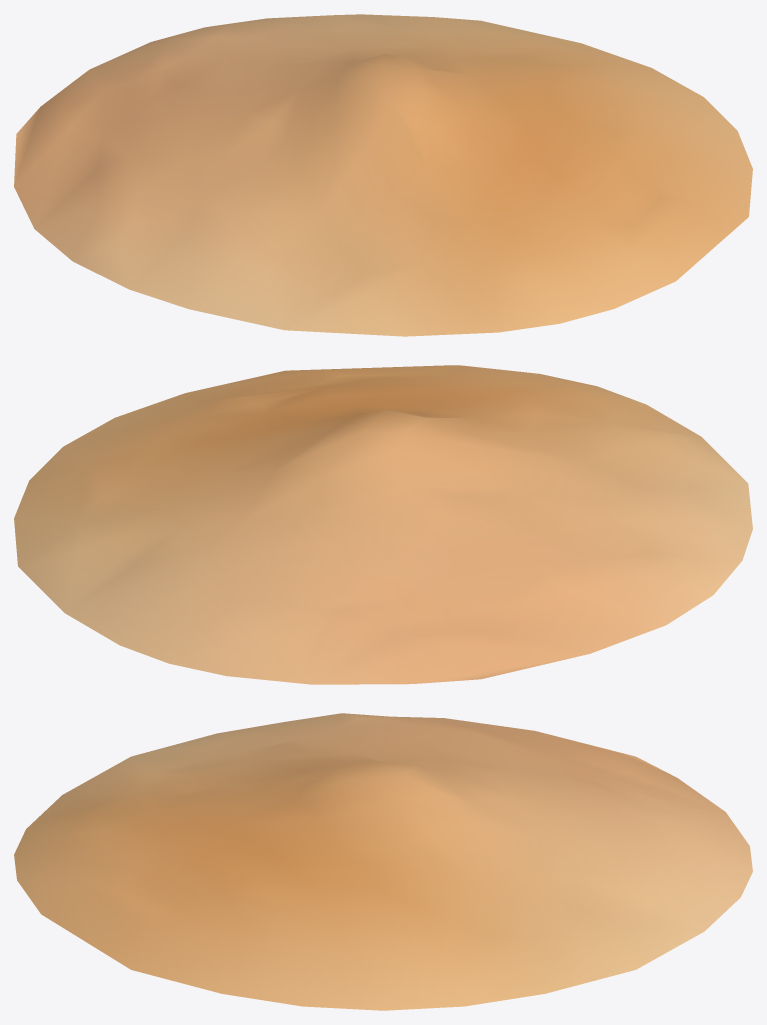
The model's file is Mount_Small_01.FBX.
The picture shows the model from 3 angles, top to bottom: view 1: azimuth 30°, elevation 25°; view 2: azimuth 150°, elevation 25°; view 3: azimuth 270°, elevation 25°; orthographic projection. The views are drawn at different scales.
Parts seen in each view (by area): view 1: Mount_Small_01; view 2: Mount_Small_01; view 3: Mount_Small_01.
Part boxes in pixels (<box>): Mount_Small_01: <box>14,14,752,336</box>; Mount_Small_01: <box>14,365,752,684</box>; Mount_Small_01: <box>14,713,752,1010</box>.
Size of the model in its own units: 56.11 by 8.27 by 59.44.
